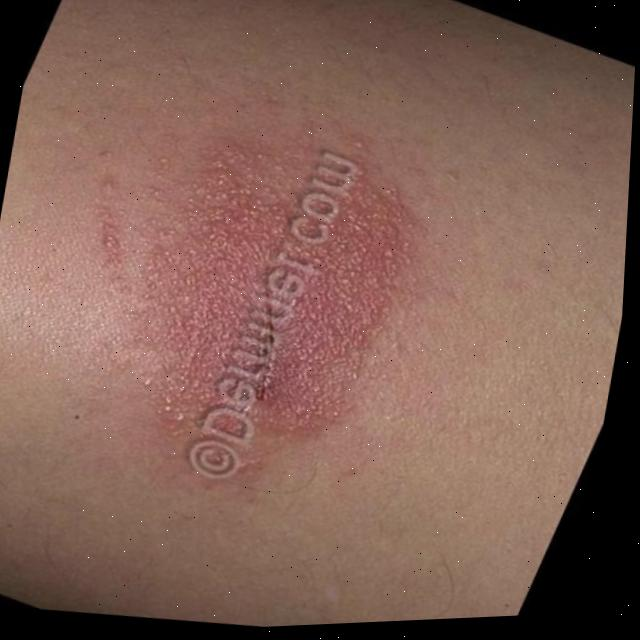Eczema: (31, 101, 446, 503)
